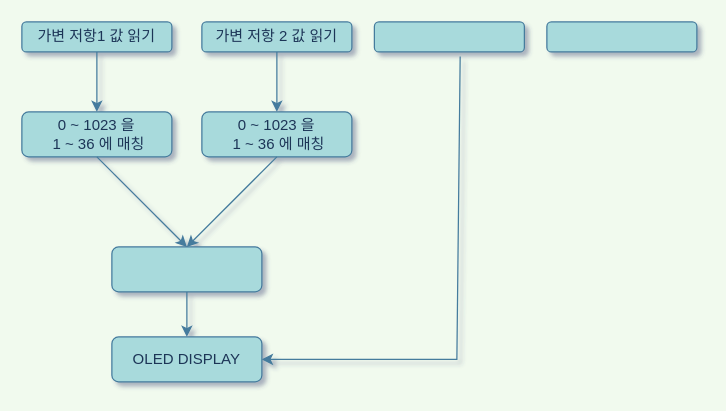
Some shapes in this 726 by 411 pixel diagram are drawn without their labels. The shapes that lost their labels are listed below. From the top down, each one's box as (x1, y1, x2, y2) in pixels, then its label:
(373, 21, 524, 52): 온도 / 습도 읽기
(546, 21, 697, 52): 시리얼 모니터출력
(111, 246, 262, 292): 모터/ 서보모터 ON /OFF 시간 계산
